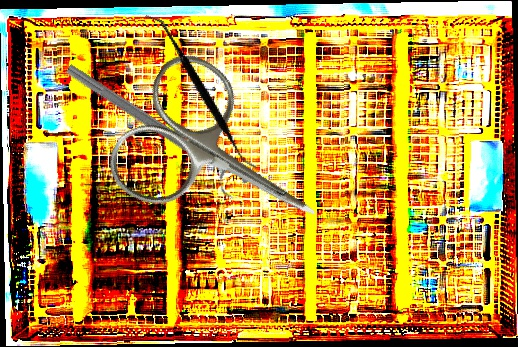Fixation Ring: (55, 59, 253, 203)
Iris Scissors: (97, 42, 354, 282)
Spatula Surgical: (105, 13, 297, 171)
